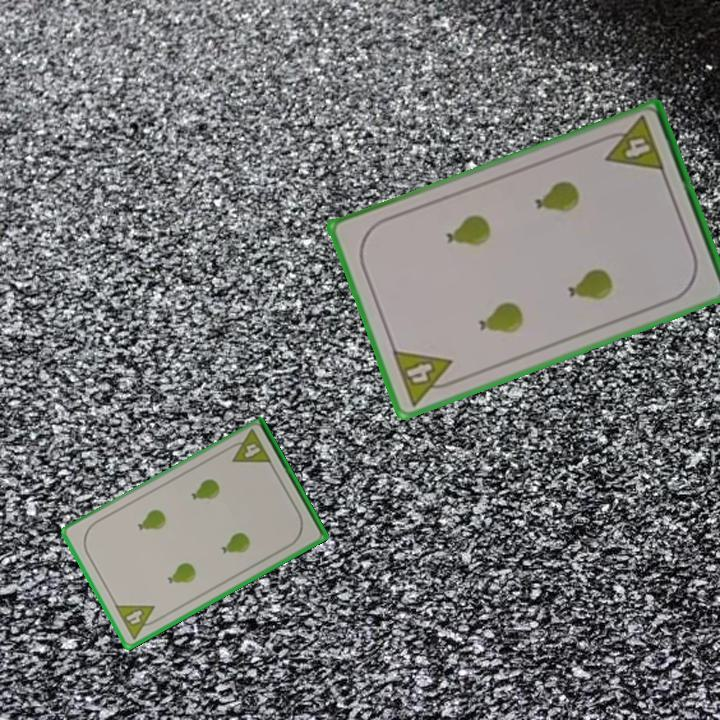4p: (388, 346, 462, 409), (596, 113, 668, 175), (111, 601, 164, 642), (223, 427, 275, 468)
